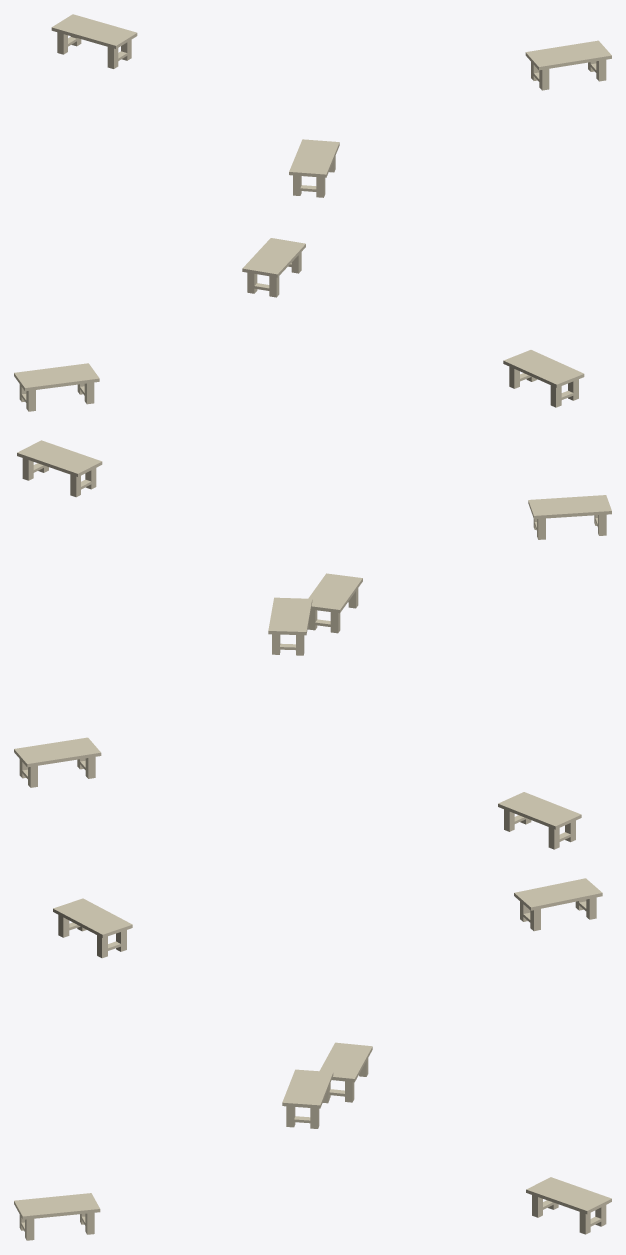
Rendered from stool.glb.
3 renders of one model, top to bottom at view 1: azimuth 30°, elevation 25°; view 2: azimuth 150°, elevation 25°; view 3: azimuth 270°, elevation 25°, orthographic.
Parts seen in each view (by area): view 1: stool.001; view 2: stool.001; view 3: stool.001.
Boxes of the visible parts, left/top/right/bottom form: stool.001: left=14, top=14, right=611, bottom=411; stool.001: left=14, top=440, right=611, bottom=849; stool.001: left=14, top=878, right=611, bottom=1240.
Bounding box in the file's own units: 7.63 × 3.35 × 6.85.
